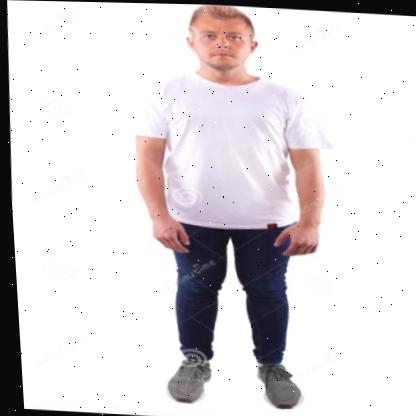person: (116, 3, 345, 413)
